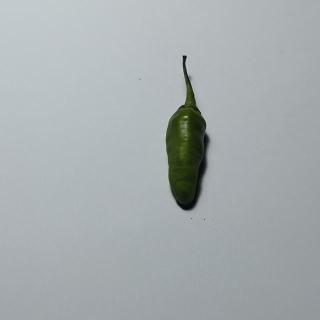Cabai Hijau: (160, 52, 214, 213)
